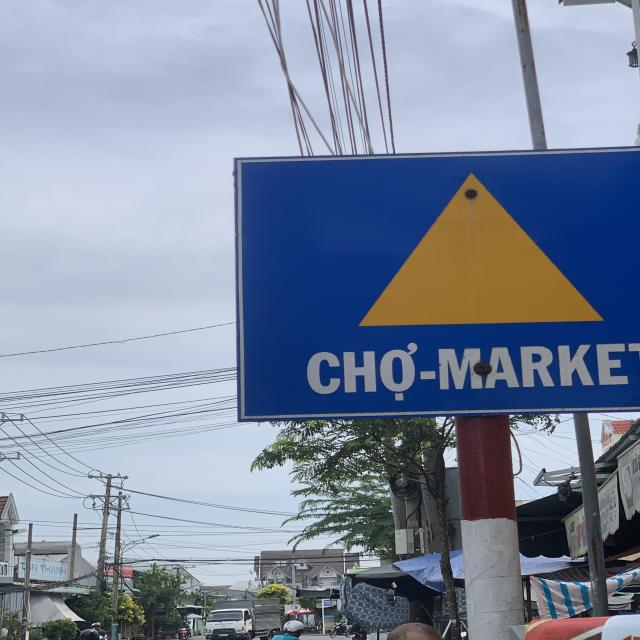Cho_Quay_Xe: (229, 155, 640, 410)
